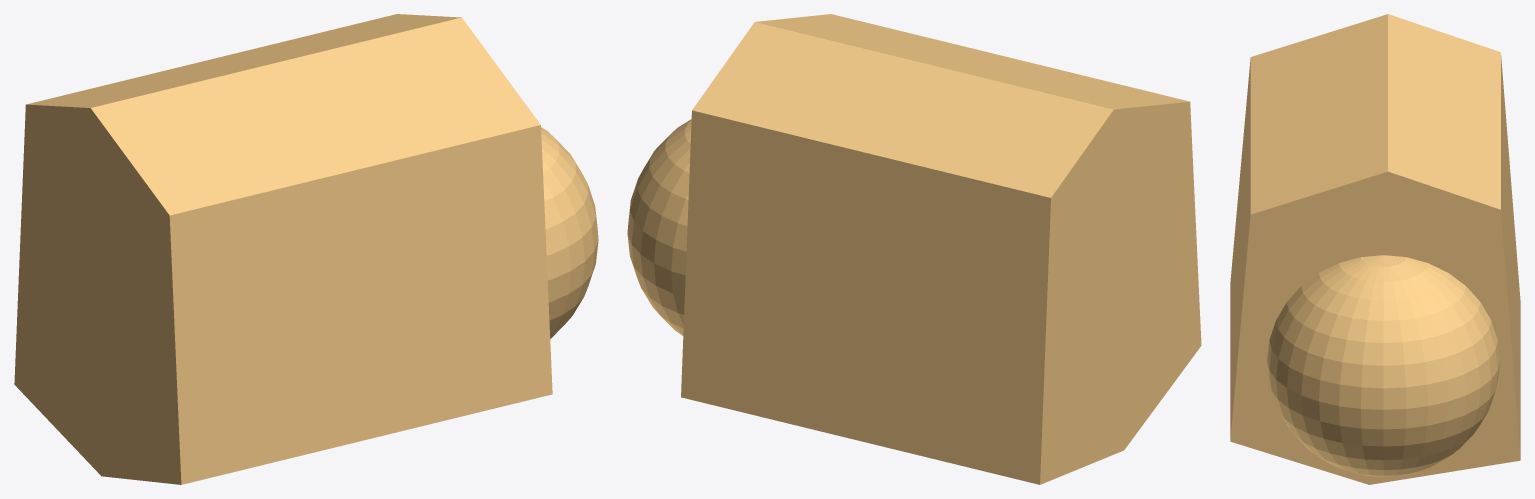
File: R_thumb0.obj
3 renders of one model, left to right at view 1: azimuth 30°, elevation 25°; view 2: azimuth 150°, elevation 25°; view 3: azimuth 270°, elevation 25°, orthographic. The views are drawn at different scales.
Visible parts, largest first — view 1: thumb0球.001_球.019; view 2: thumb0球.001_球.019; view 3: thumb0球.001_球.019.
Part boxes in pixels (x1=…): thumb0球.001_球.019: x1=14, y1=14, x2=598, y2=484; thumb0球.001_球.019: x1=627, y1=14, x2=1201, y2=484; thumb0球.001_球.019: x1=1230, y1=14, x2=1520, y2=484.
Bounding box in the file's own units: 0.7672 × 0.5417 × 0.4549.
